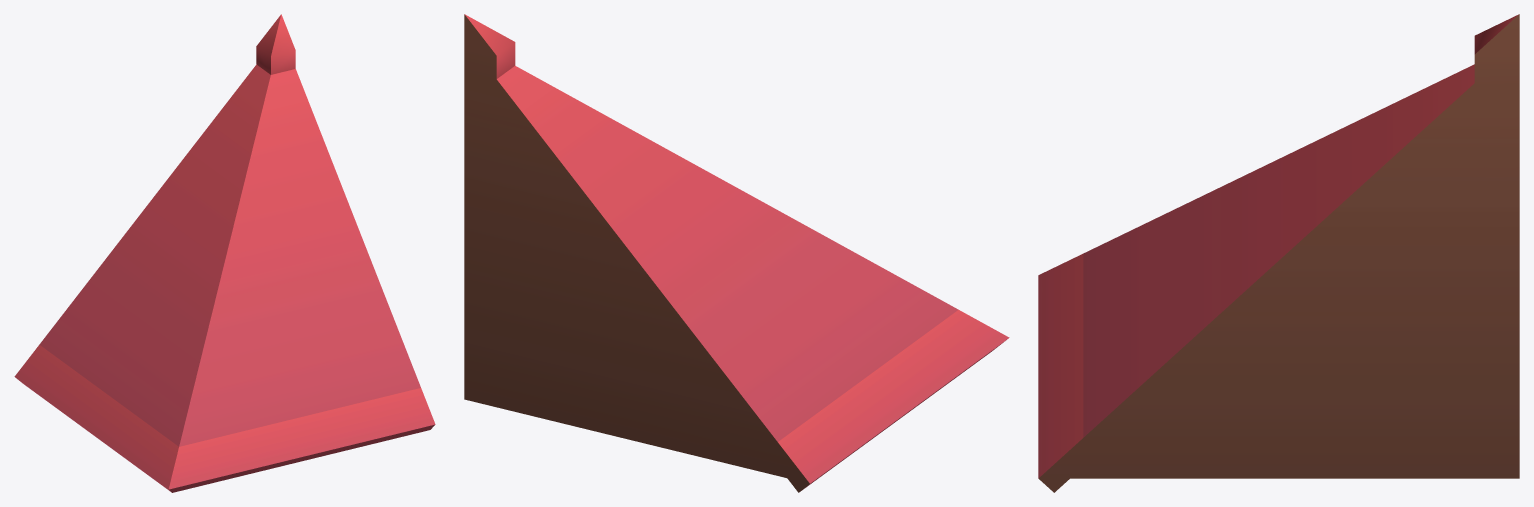
File: roof-high-corner.glb
The picture shows the model from 3 angles, left to right: view 1: azimuth 30°, elevation 25°; view 2: azimuth 150°, elevation 25°; view 3: azimuth 270°, elevation 25°; orthographic projection. The views are drawn at different scales.
Visible parts, largest first — view 1: roof-high-corner; view 2: roof-high-corner; view 3: roof-high-corner.
Boxes of the visible parts, <box> form: roof-high-corner: <box>14,14,435,492</box>; roof-high-corner: <box>464,14,1009,492</box>; roof-high-corner: <box>1038,14,1519,492</box>.
Size of the model in its own units: 1.07 by 1.18 by 1.07.
1 material, 1 textured.
